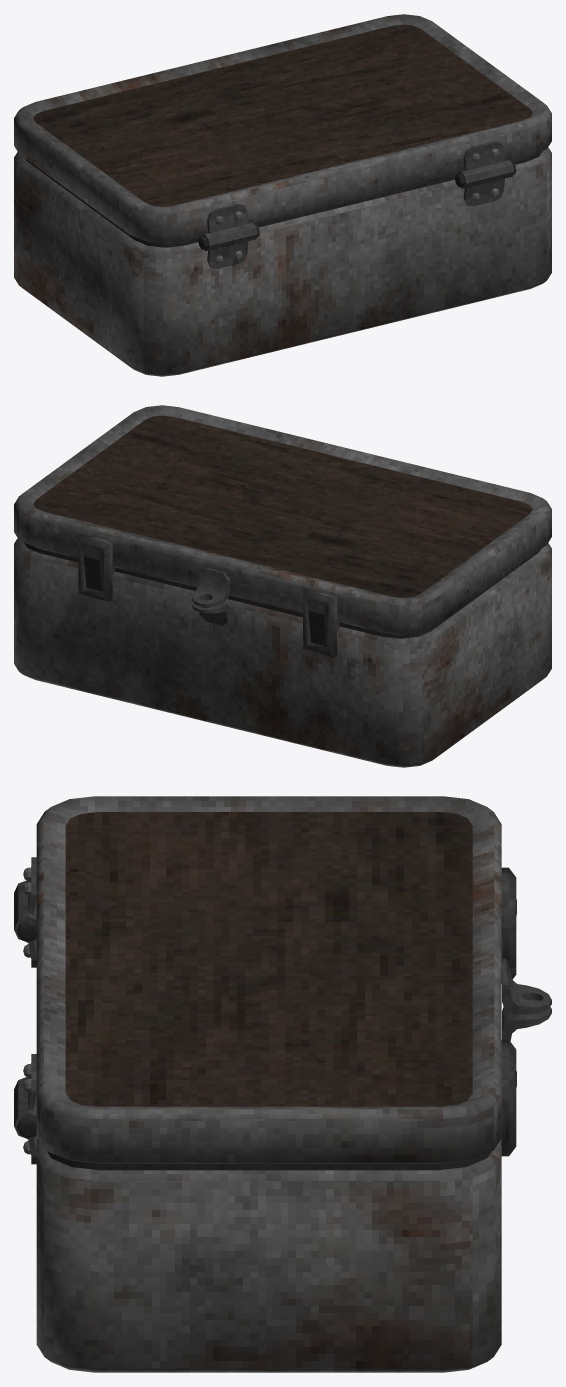
The model's file is metal_crate_1.glb.
3 renders of one model, top to bottom at view 1: azimuth 30°, elevation 25°; view 2: azimuth 150°, elevation 25°; view 3: azimuth 270°, elevation 25°, orthographic. The views are drawn at different scales.
Visible parts, largest first — view 1: metal_crate_1; view 2: metal_crate_1; view 3: metal_crate_1.
Boxes of the visible parts, box(x1,y1,x2,y2) form: metal_crate_1: box(14, 14, 551, 376); metal_crate_1: box(14, 405, 551, 767); metal_crate_1: box(14, 796, 551, 1372).
Size of the model in its own units: 0.52 by 0.2 by 0.3702.
4 materials, 4 textured.
